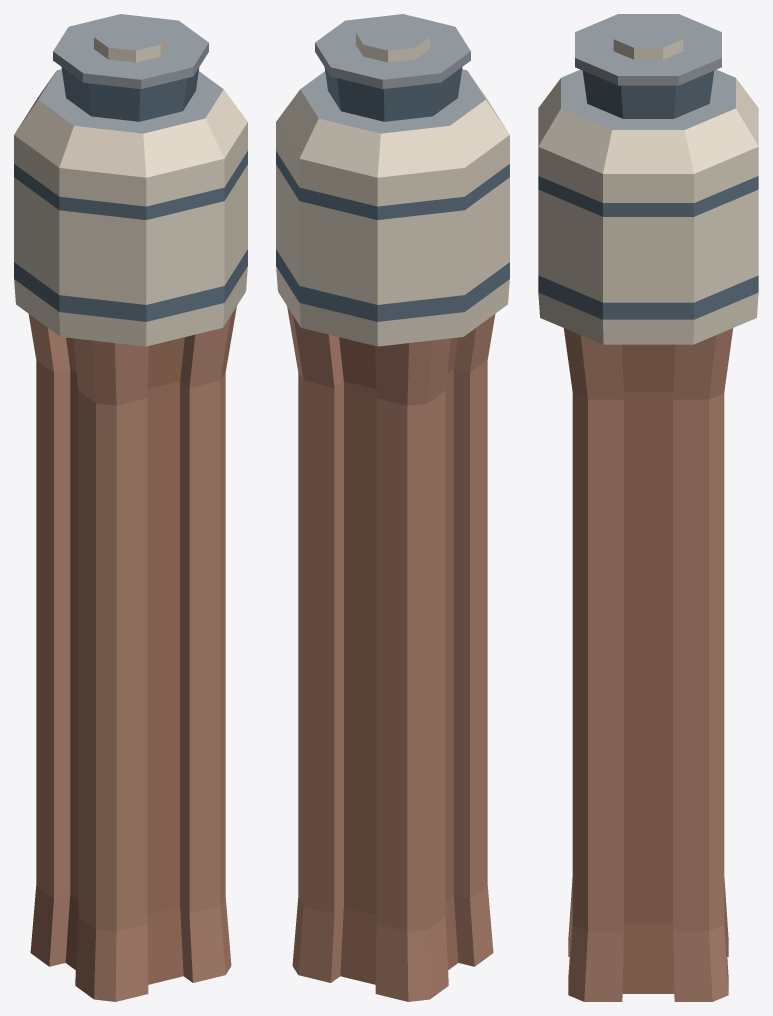
3 views of the same model, side by side, from view 1: azimuth 30°, elevation 25°; view 2: azimuth 150°, elevation 25°; view 3: azimuth 270°, elevation 25° (orthographic).
Visible parts, largest first — view 1: harry-reid-international-airport-control-tower; view 2: harry-reid-international-airport-control-tower; view 3: harry-reid-international-airport-control-tower.
Boxes of the visible parts, x1=… form: harry-reid-international-airport-control-tower: x1=14, y1=14, x2=247, y2=1001; harry-reid-international-airport-control-tower: x1=276, y1=14, x2=509, y2=1001; harry-reid-international-airport-control-tower: x1=538, y1=14, x2=758, y2=1001.
Size of the model in its own units: 23.28 by 109 by 23.28.
